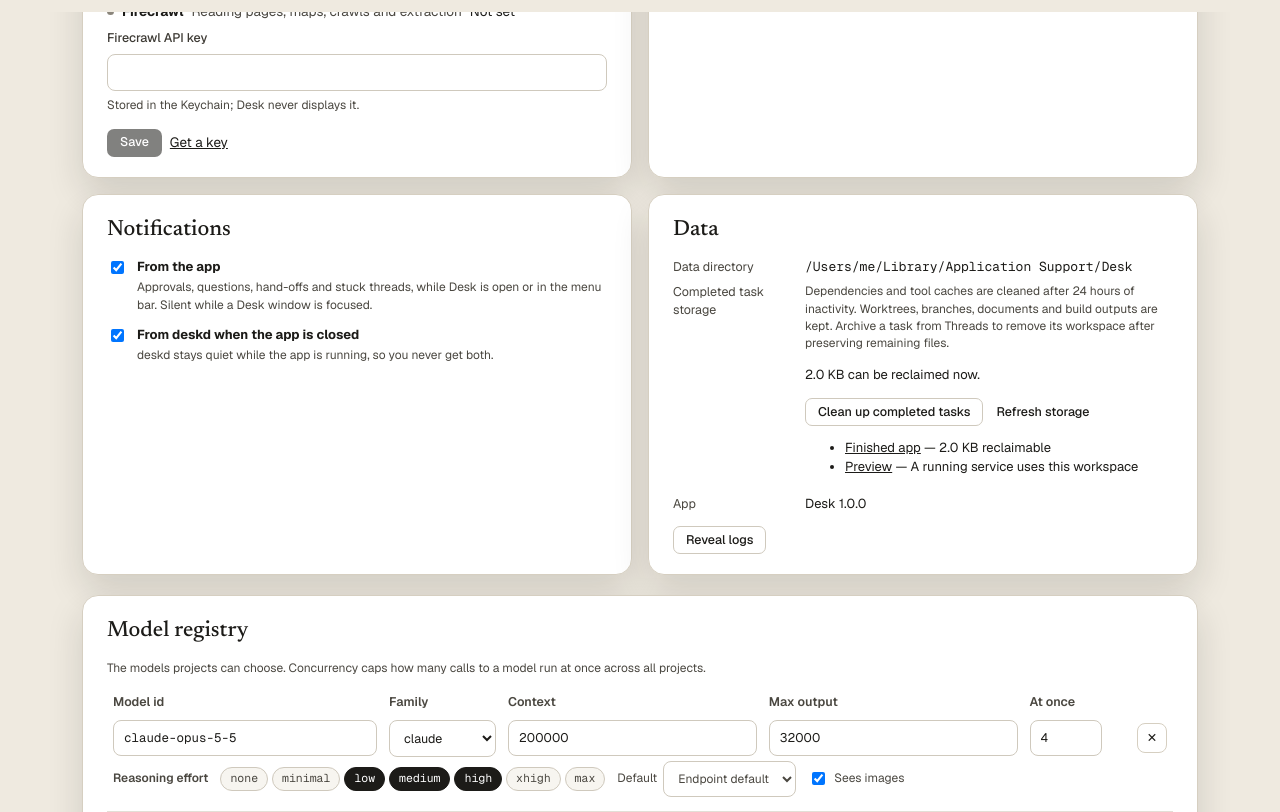
Test: SystemScreen › previews completed-task storage, explains protected workspaces, and cleans dependencies
The width and height of the screenshot is (1280, 812).
(page scrolled)
Expected: the list item "A running service uses this workspace" is shown, x1=910 y1=458 x2=1138 y2=474
Step 1. Click the button "Clean up completed tasks" → (894, 412), box x1=805 y1=398 x2=984 y2=426
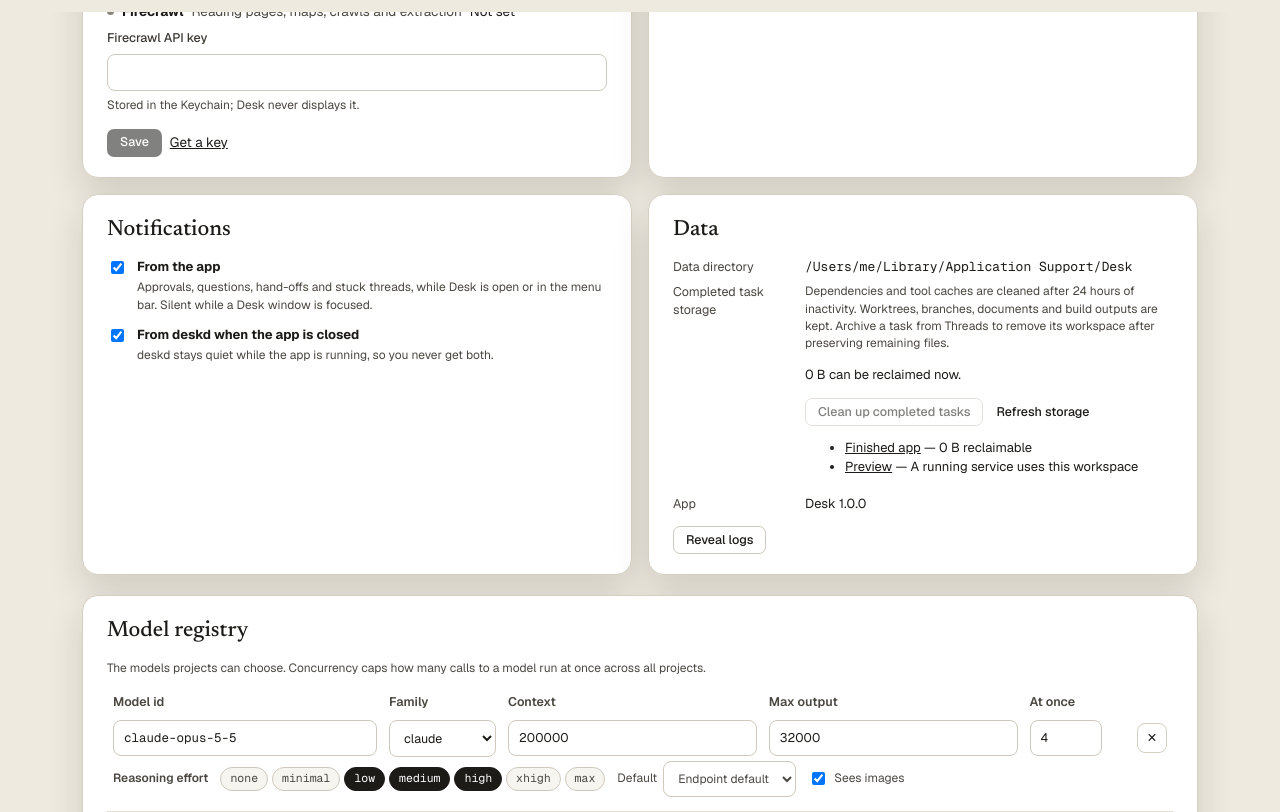
Now the button "Clean up completed tasks" is disabled, box x1=805 y1=398 x2=984 y2=426
